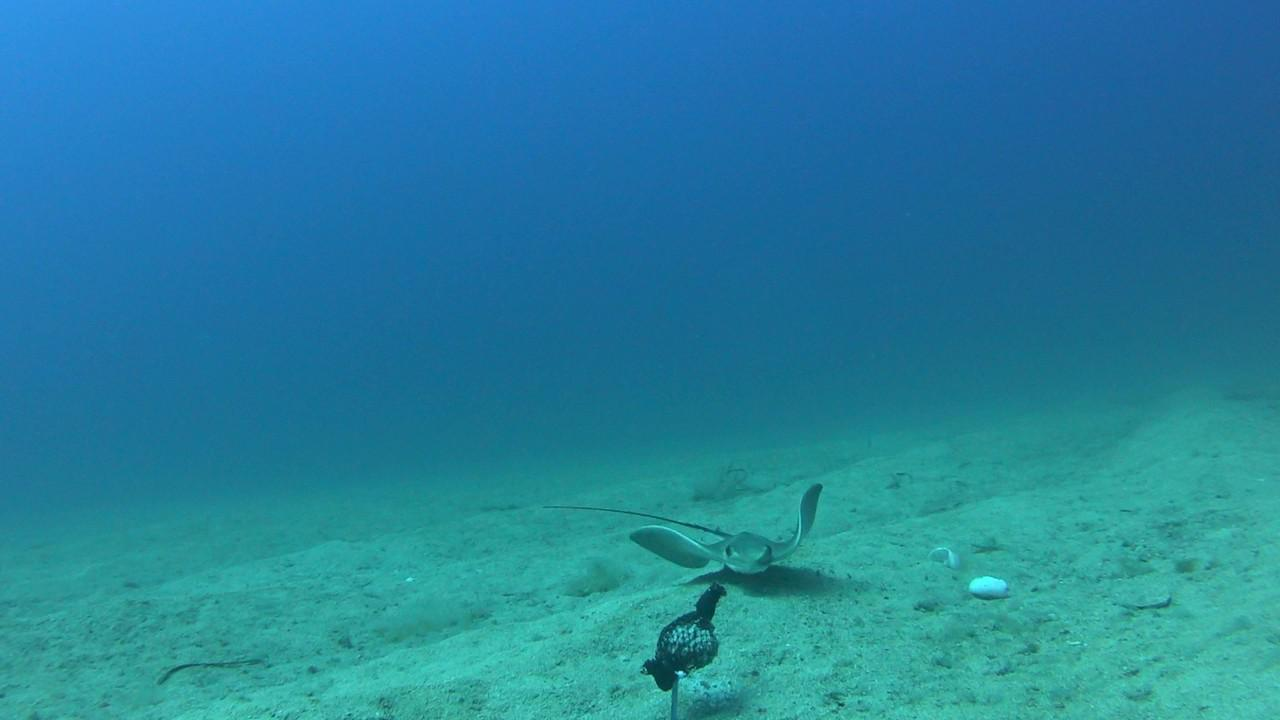myliobatis: (501, 474, 835, 579)
